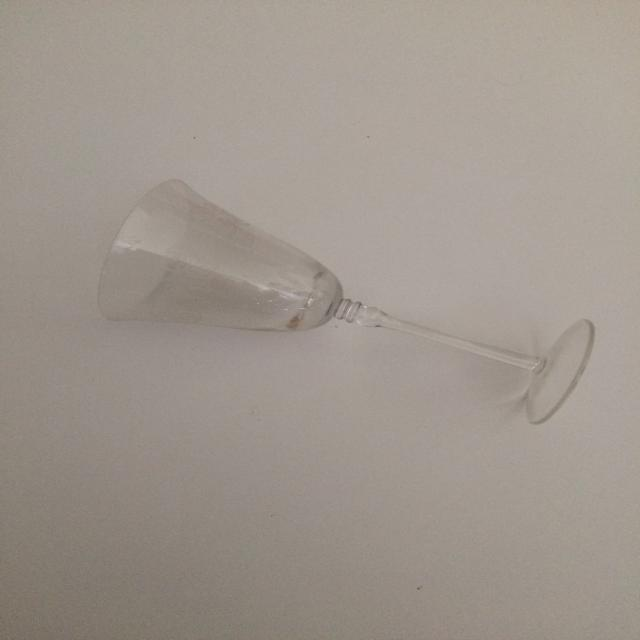glass: (94, 178, 598, 427)
